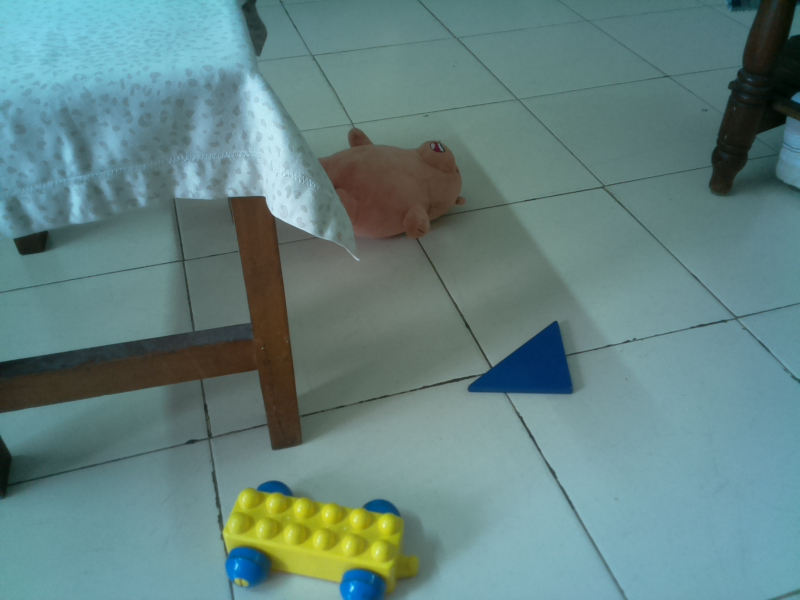Triangle: (466, 317, 579, 403)
toy_Car: (219, 476, 423, 599)
